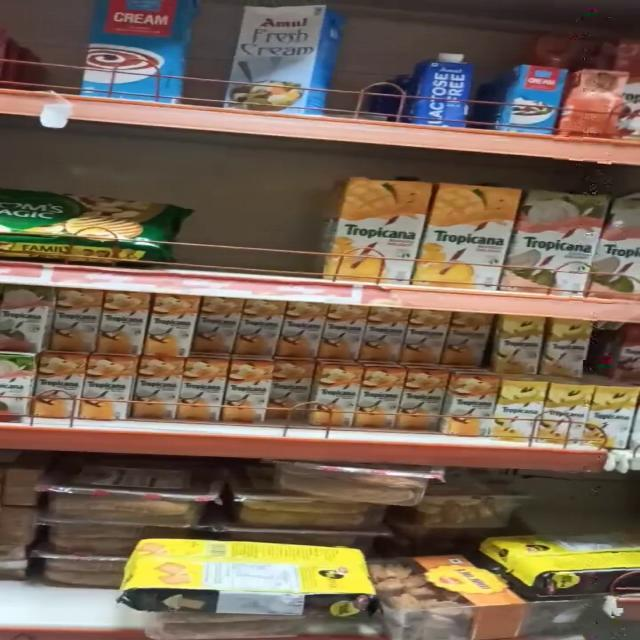Tropicana: (316, 172, 428, 279), (512, 182, 603, 301), (426, 176, 506, 285), (41, 287, 105, 353), (214, 360, 278, 425), (28, 358, 88, 425), (538, 318, 596, 379), (487, 317, 544, 377), (583, 388, 640, 443), (236, 300, 286, 361), (448, 382, 498, 442), (85, 360, 135, 418), (178, 365, 224, 427), (187, 294, 233, 355), (262, 354, 302, 423), (439, 316, 491, 369), (316, 302, 364, 359), (146, 294, 188, 359), (135, 363, 180, 423), (105, 290, 146, 355), (316, 369, 361, 427), (406, 376, 452, 431), (540, 383, 586, 436), (361, 375, 404, 431), (358, 309, 403, 361), (500, 386, 542, 440), (404, 312, 446, 365), (284, 304, 318, 358)
